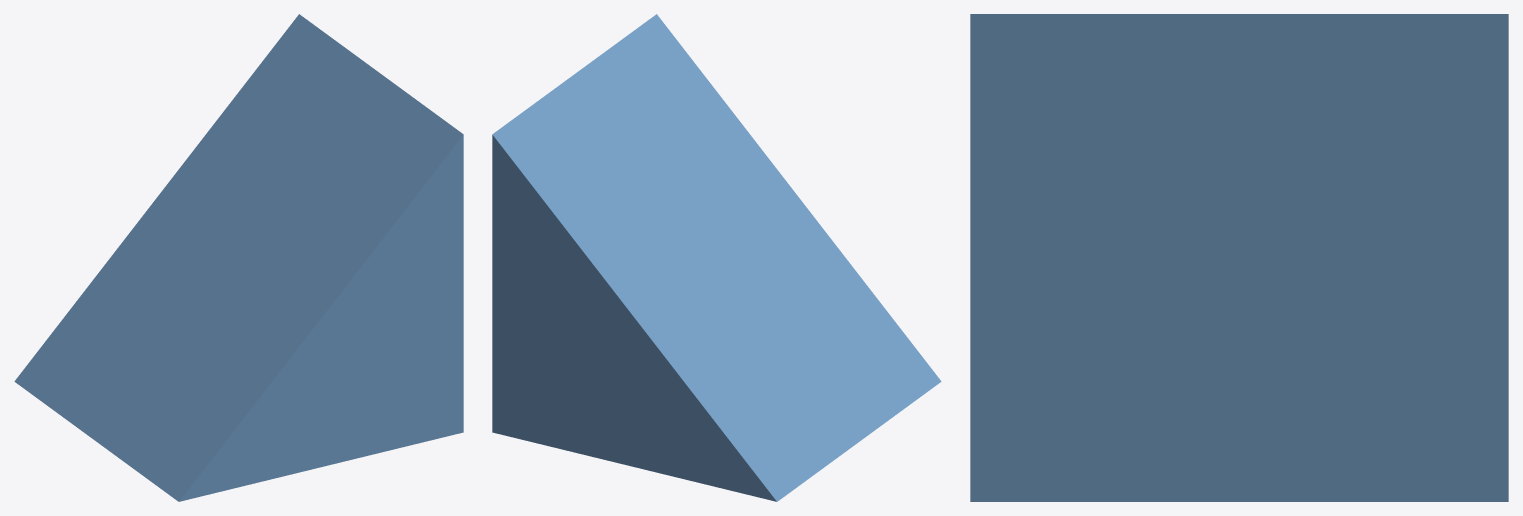
The model's file is Spawn_Slope.glb.
3 views of the same model, side by side, from view 1: azimuth 30°, elevation 25°; view 2: azimuth 150°, elevation 25°; view 3: azimuth 270°, elevation 25° (orthographic). The views are drawn at different scales.
Visible parts, largest first — view 1: Spawn_Slope_body; view 2: Spawn_Slope_body; view 3: Spawn_Slope_body.
Part boxes in pixels (x1,y1,x2,y2): Spawn_Slope_body: (14, 14, 463, 501); Spawn_Slope_body: (492, 14, 941, 501); Spawn_Slope_body: (970, 14, 1508, 501).
Size of the model in its own units: 1 by 1 by 1.
